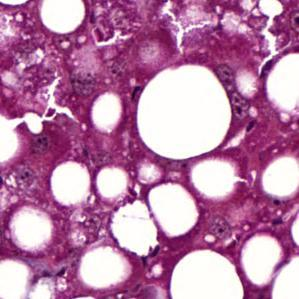steatosis: (132, 68, 237, 164)
